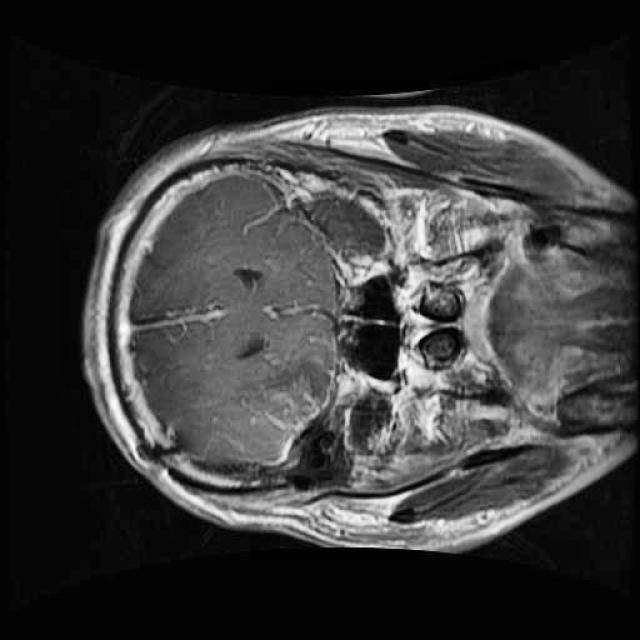Tumor: (188, 371, 411, 513)
